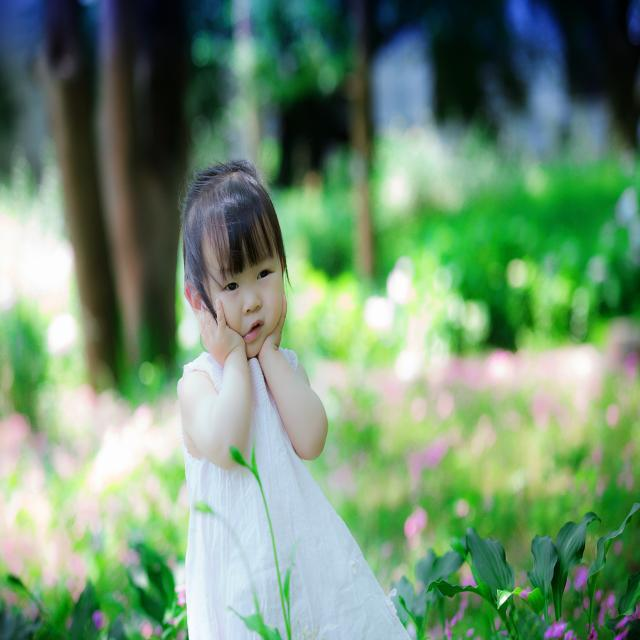non-dog: (173, 156, 411, 640)
